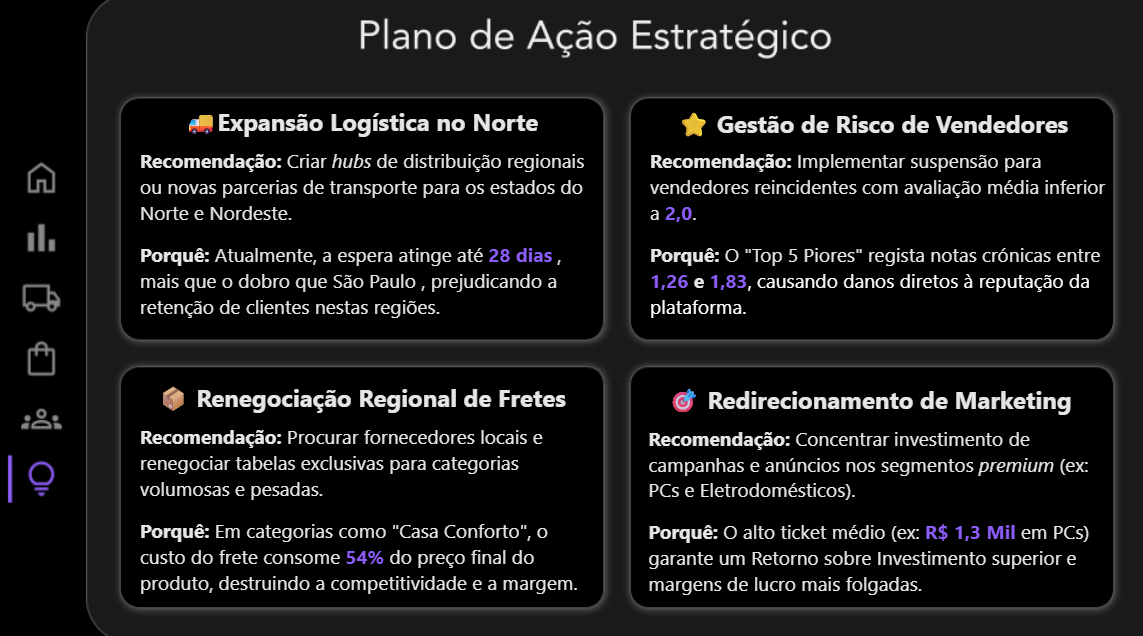

Layout of this report page (visuals, bound fields, positions):
{"tool":"powerbi","page":{"name":"Insights","canvas":[1280,720],"ordinal":5},"visuals":[{"type":"textbox","box":[140,114.8,531.7,53.3],"z":0},{"type":"textbox","box":[155,161.7,518.3,206.7],"z":1000},{"type":"textbox","box":[708.3,116.5,531.7,51.7],"z":2000},{"type":"textbox","box":[721.4,161.7,518.3,206.7],"z":3000},{"type":"textbox","box":[140.1,420.9,531.7,53.3],"z":4000},{"type":"textbox","box":[155.1,467.8,518.3,206.7],"z":5000},{"type":"textbox","box":[705.7,423.2,531.7,53.3],"z":6000},{"type":"textbox","box":[720.7,470,518.3,206.7],"z":7000},{"type":"actionButton","box":[15,178.8,70,48.8],"z":8000},{"type":"actionButton","box":[15,240,70,51.2],"z":9000},{"type":"actionButton","box":[15,307.5,70,48.8],"z":10000},{"type":"actionButton","box":[15,378.8,70,48.8],"z":11000},{"type":"actionButton","box":[15,447.5,70,48.8],"z":12000},{"type":"actionButton","box":[15,512.5,70,48.8],"z":13000}]}

Visuals, with their boxes on the page's 1280x720 design canvas (x1, y1, x2, y2). These are canvas units, not pixel positions in the 1143x636 screenshot, which may show the page scaled, cropped or inside an application window:
textbox: x1=140 y1=115 x2=672 y2=168
textbox: x1=155 y1=162 x2=673 y2=368
textbox: x1=708 y1=116 x2=1240 y2=168
textbox: x1=721 y1=162 x2=1240 y2=368
textbox: x1=140 y1=421 x2=672 y2=474
textbox: x1=155 y1=468 x2=673 y2=674
textbox: x1=706 y1=423 x2=1237 y2=476
textbox: x1=721 y1=470 x2=1239 y2=677
actionButton: x1=15 y1=179 x2=85 y2=228
actionButton: x1=15 y1=240 x2=85 y2=291
actionButton: x1=15 y1=308 x2=85 y2=356
actionButton: x1=15 y1=379 x2=85 y2=428
actionButton: x1=15 y1=448 x2=85 y2=496
actionButton: x1=15 y1=512 x2=85 y2=561
